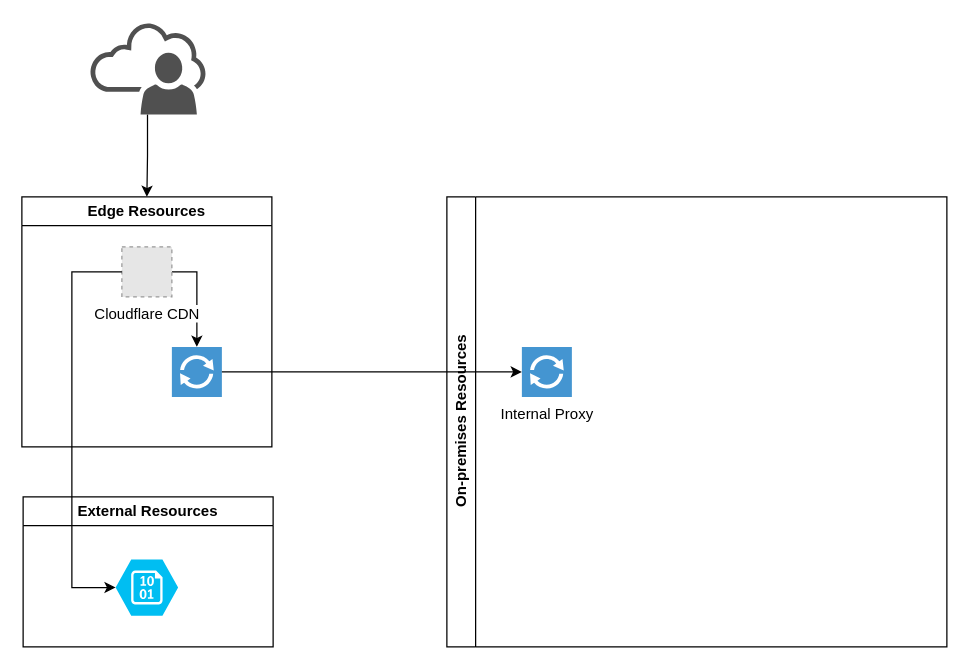
Image size: 969x669. Some labels were removed from this diagram. Grey dashed boxes stand in for pictures. Here are the shapes that lost their labels. From the top down, the centre of each, then its label:
At [196,371]: "External Proxy".
At [146,587]: "Static Assets".
